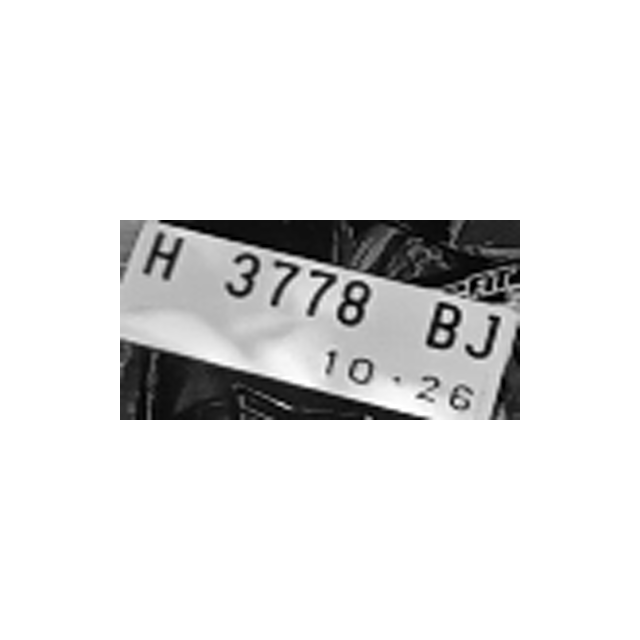contain: (140, 224, 187, 287), (217, 247, 264, 310), (260, 256, 307, 319), (334, 273, 377, 340), (422, 299, 461, 361), (463, 309, 502, 371), (300, 267, 337, 331)
